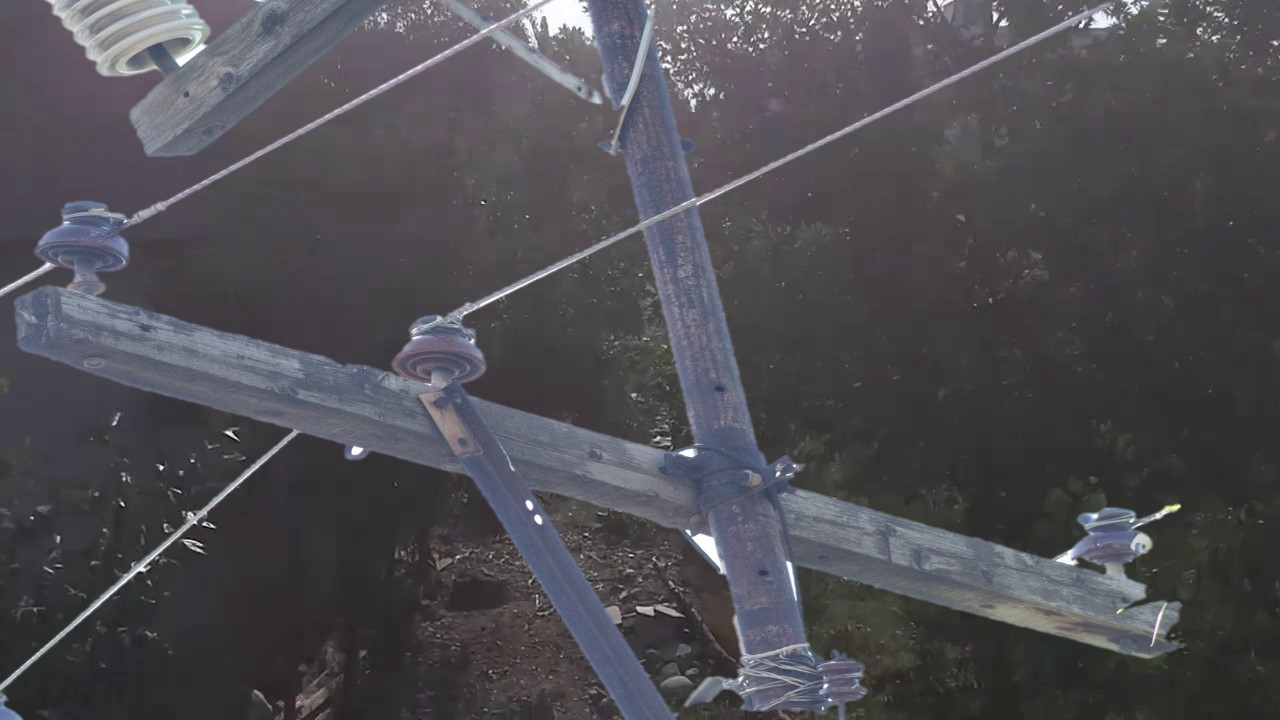defect_pin: (1070, 501, 1157, 571)
insulator_pin: (387, 306, 497, 391), (32, 192, 132, 283)
